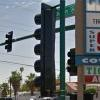traffic lights: (32, 2, 57, 92), (6, 33, 14, 53)
